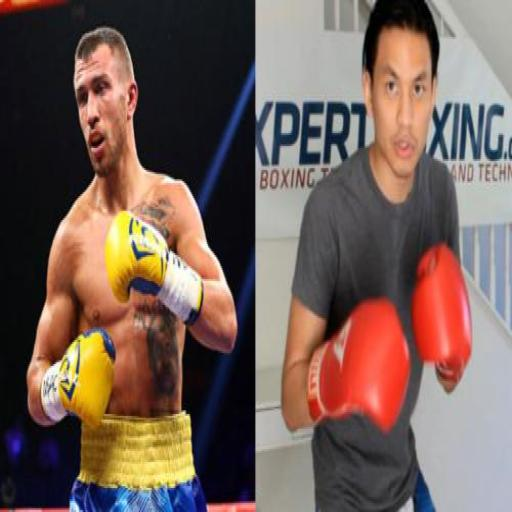boxing: (272, 30, 512, 512), (26, 24, 238, 510)
